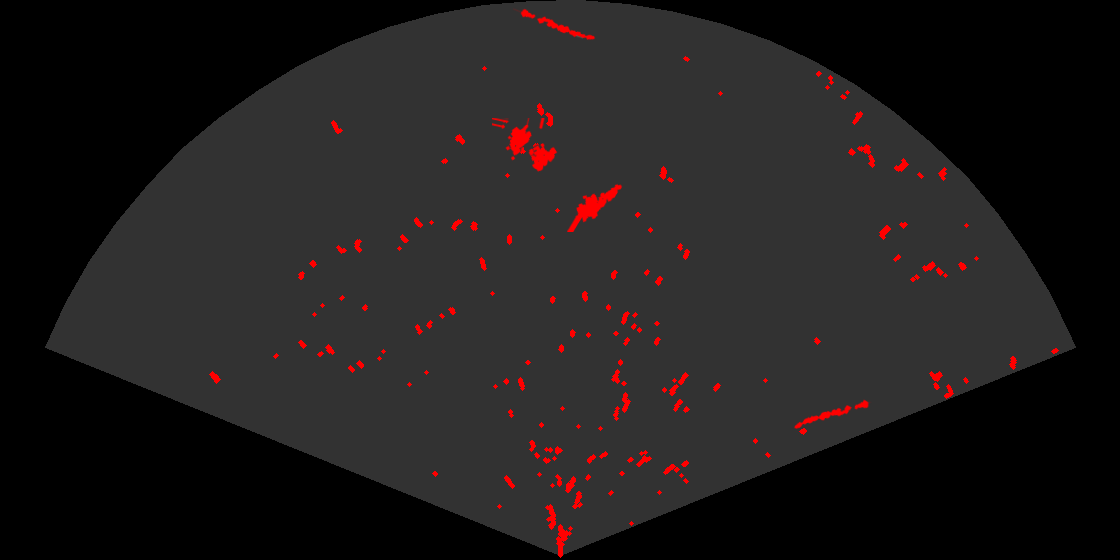cage: (492, 118, 559, 173)
chain: (513, 7, 597, 42), (792, 398, 872, 430)
frogman: (567, 182, 624, 232)
